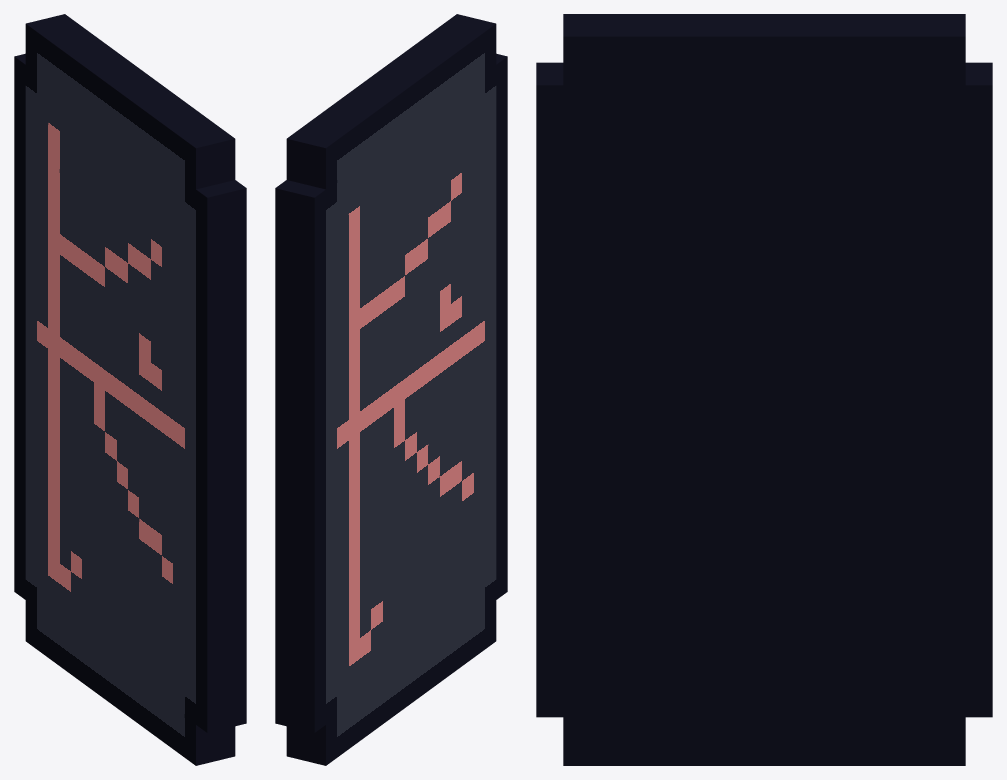
The model's file is literka_neo_2.dae.
The picture shows the model from 3 angles, left to right: view 1: azimuth 30°, elevation 25°; view 2: azimuth 150°, elevation 25°; view 3: azimuth 270°, elevation 25°; orthographic projection. The views are drawn at different scales.
Parts seen in each view (by area): view 1: Content; view 2: Content; view 3: Content.
Boxes of the visible parts, x1,y1,x2,y2 form: Content: [14, 14, 246, 765]; Content: [275, 14, 507, 765]; Content: [536, 14, 992, 765].
Bounding box in the file's own units: 2 × 30 × 17.
1 material, 1 textured.
